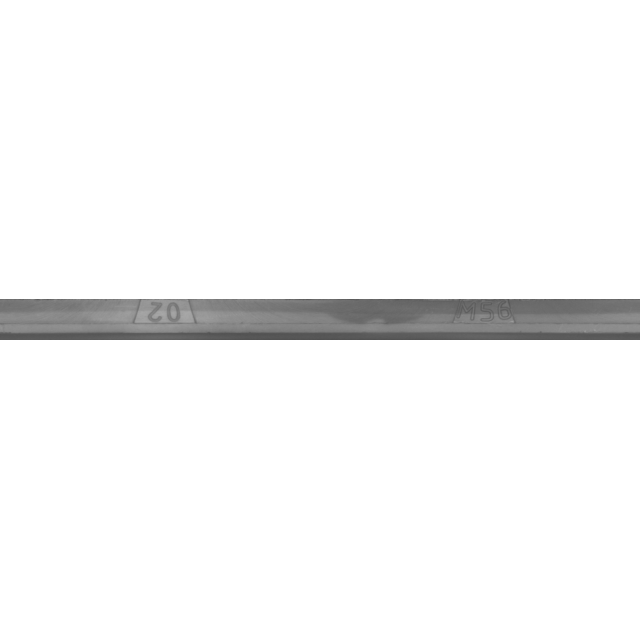mohao: (388, 270, 588, 370)
xuehao: (63, 270, 263, 370)
